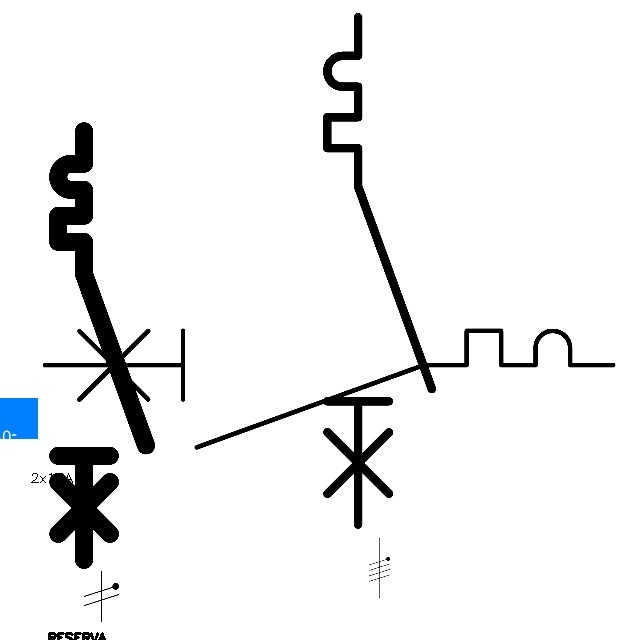interruptor_termomagnetico: (30, 316, 628, 462), (314, 4, 444, 538), (47, 120, 157, 570)
